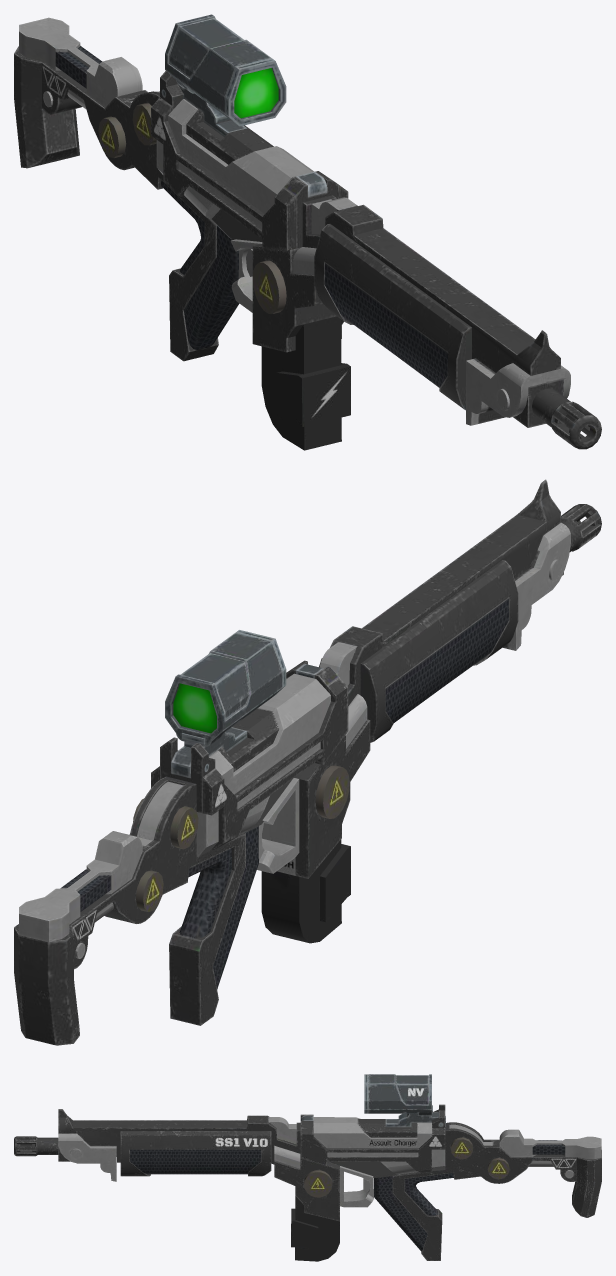
File: WPN_SF_SS1V2.fbx
3 views of the same model, one above another, from view 1: azimuth 30°, elevation 25°; view 2: azimuth 150°, elevation 25°; view 3: azimuth 270°, elevation 25° (orthographic). The views are drawn at different scales.
Parts seen in each view (by area): view 1: WPN_SF_SS1V2_02_mag_mech, WPN_SF_SS1V2_01_handG_muz_barr, WPN_SF_SS1V2_03_grip_butt, WPN_SF_SS1V2_04_scope; view 2: WPN_SF_SS1V2_02_mag_mech, WPN_SF_SS1V2_03_grip_butt, WPN_SF_SS1V2_01_handG_muz_barr, WPN_SF_SS1V2_04_scope; view 3: WPN_SF_SS1V2_02_mag_mech, WPN_SF_SS1V2_01_handG_muz_barr, WPN_SF_SS1V2_03_grip_butt, WPN_SF_SS1V2_04_scope.
Boxes of the visible parts, left/top/right/bottom form: WPN_SF_SS1V2_02_mag_mech: left=151, top=71, right=350, bottom=450; WPN_SF_SS1V2_01_handG_muz_barr: left=302, top=195, right=601, bottom=449; WPN_SF_SS1V2_03_grip_butt: left=14, top=17, right=239, bottom=361; WPN_SF_SS1V2_04_scope: left=161, top=14, right=286, bottom=136; WPN_SF_SS1V2_02_mag_mech: left=151, top=660, right=370, bottom=943; WPN_SF_SS1V2_03_grip_butt: left=14, top=776, right=258, bottom=1045; WPN_SF_SS1V2_01_handG_muz_barr: left=319, top=479, right=601, bottom=742; WPN_SF_SS1V2_04_scope: left=165, top=630, right=286, bottom=778; WPN_SF_SS1V2_02_mag_mech: left=274, top=1104, right=445, bottom=1261; WPN_SF_SS1V2_01_handG_muz_barr: left=14, top=1109, right=300, bottom=1181; WPN_SF_SS1V2_03_grip_butt: left=374, top=1122, right=601, bottom=1260; WPN_SF_SS1V2_04_scope: left=364, top=1074, right=445, bottom=1127.
Bounding box in the file's own units: 32.88 × 149 × 447.
